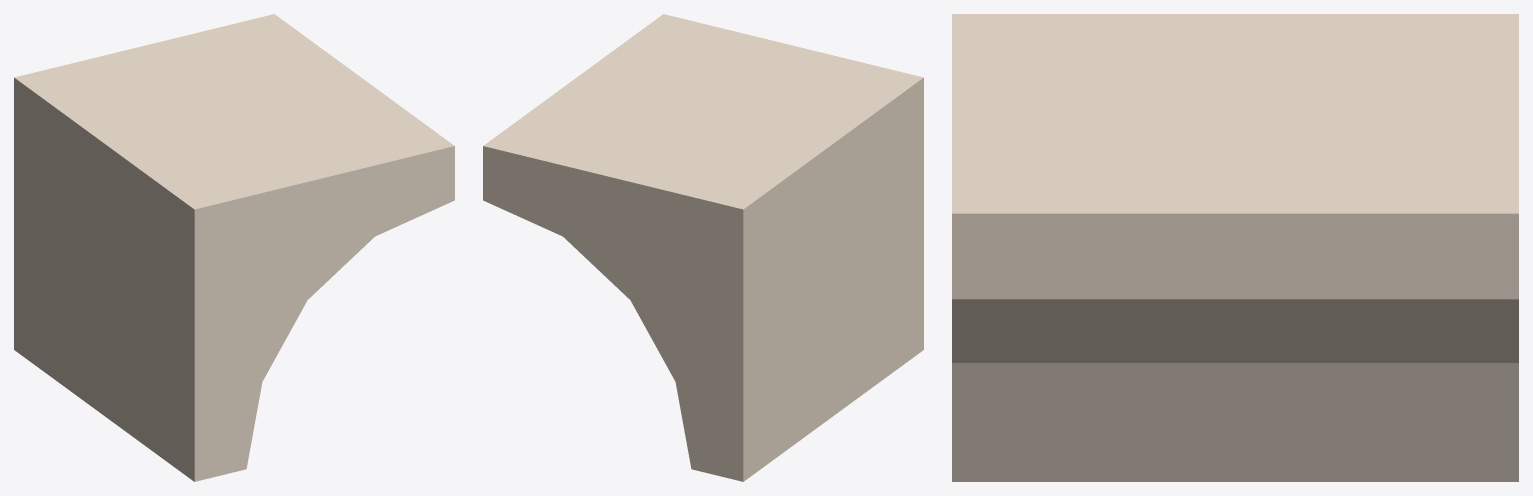
File: temple_Wall_Straight_Arch_Top.glb
3 views of the same model, side by side, from view 1: azimuth 30°, elevation 25°; view 2: azimuth 150°, elevation 25°; view 3: azimuth 270°, elevation 25° (orthographic). The views are drawn at different scales.
Visible parts, largest first — view 1: object1; view 2: object1; view 3: object1.
Boxes of the visible parts, x1=… form: object1: x1=14, y1=14, x2=454, y2=481; object1: x1=483, y1=14, x2=923, y2=481; object1: x1=952, y1=14, x2=1518, y2=481.
Size of the model in its own units: 1 by 1 by 1.2.
